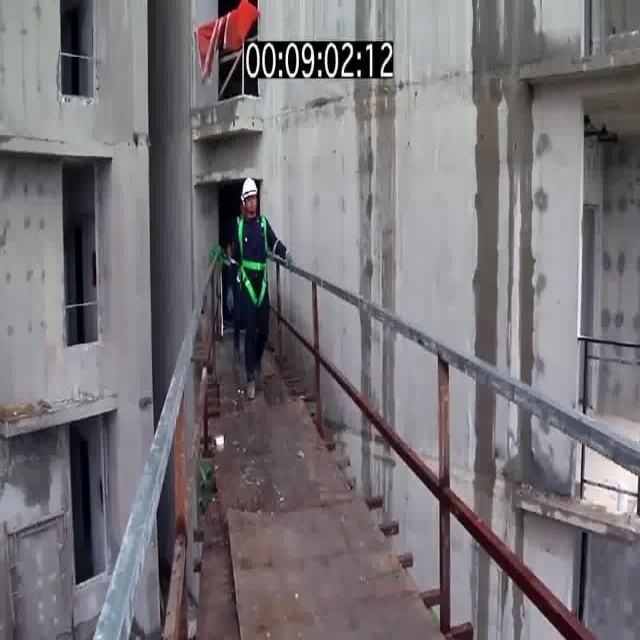Arnes_seguridad: (240, 215, 270, 305)
